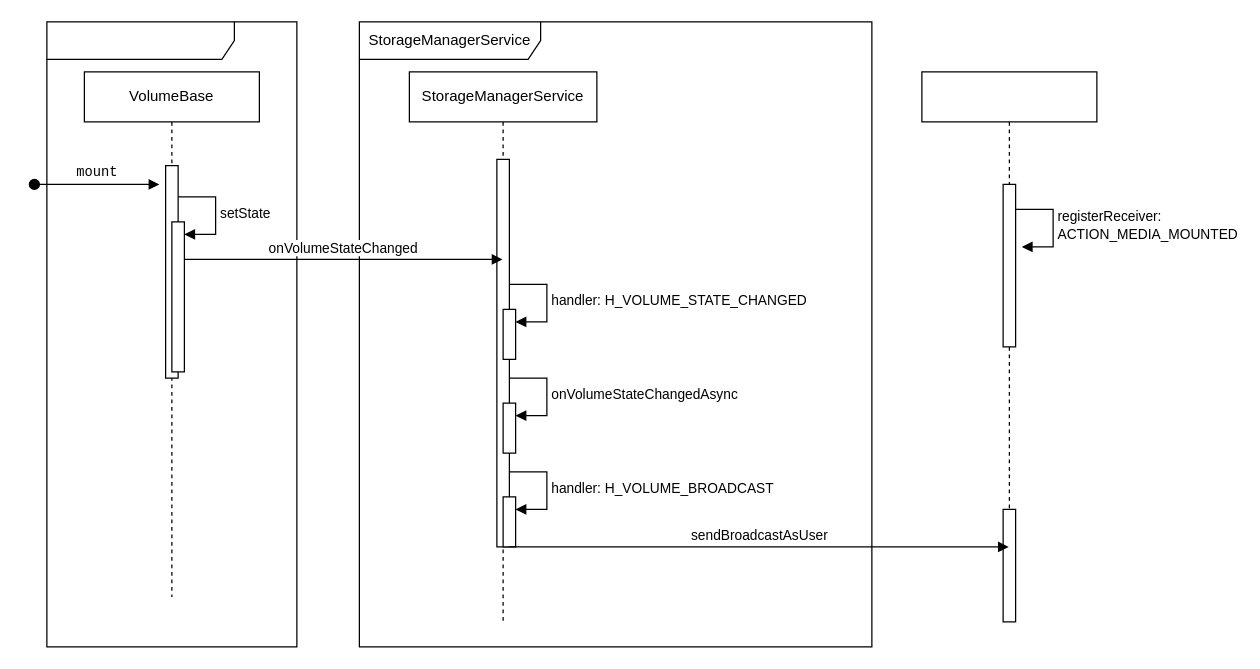
Some shapes in this 1260 by 669 pixel diagram are drawn without their labels. The shapes that lost their labels are listed below. From the top down, each one's centre as x and y in pixels, then its label:
(x=171, y=334): vold
(x=1009, y=346): Apps
